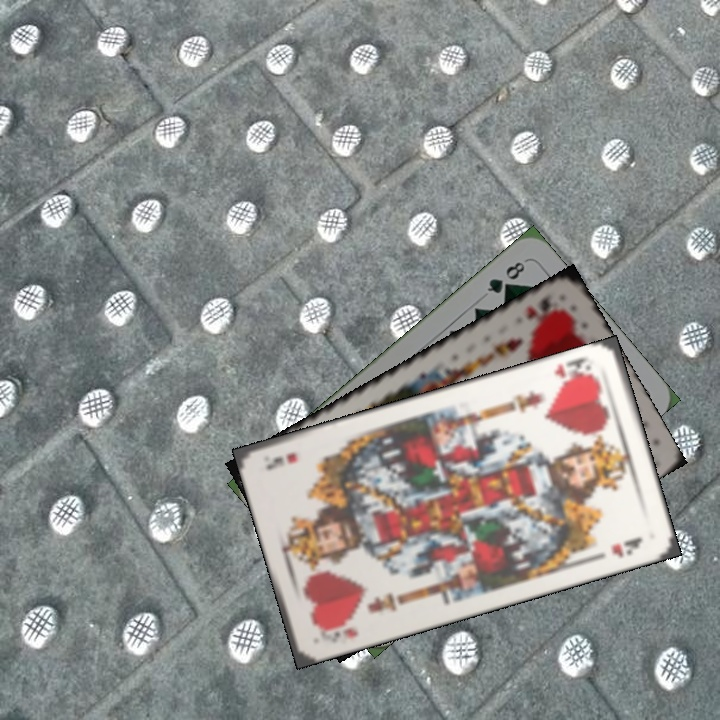G8: (483, 257, 529, 297)
HK: (551, 353, 596, 387), (316, 617, 360, 646), (522, 292, 554, 323)
